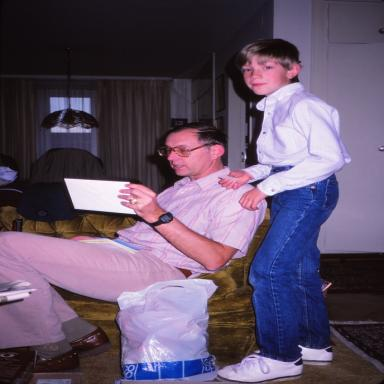plasticbag: (114, 277, 220, 383)
